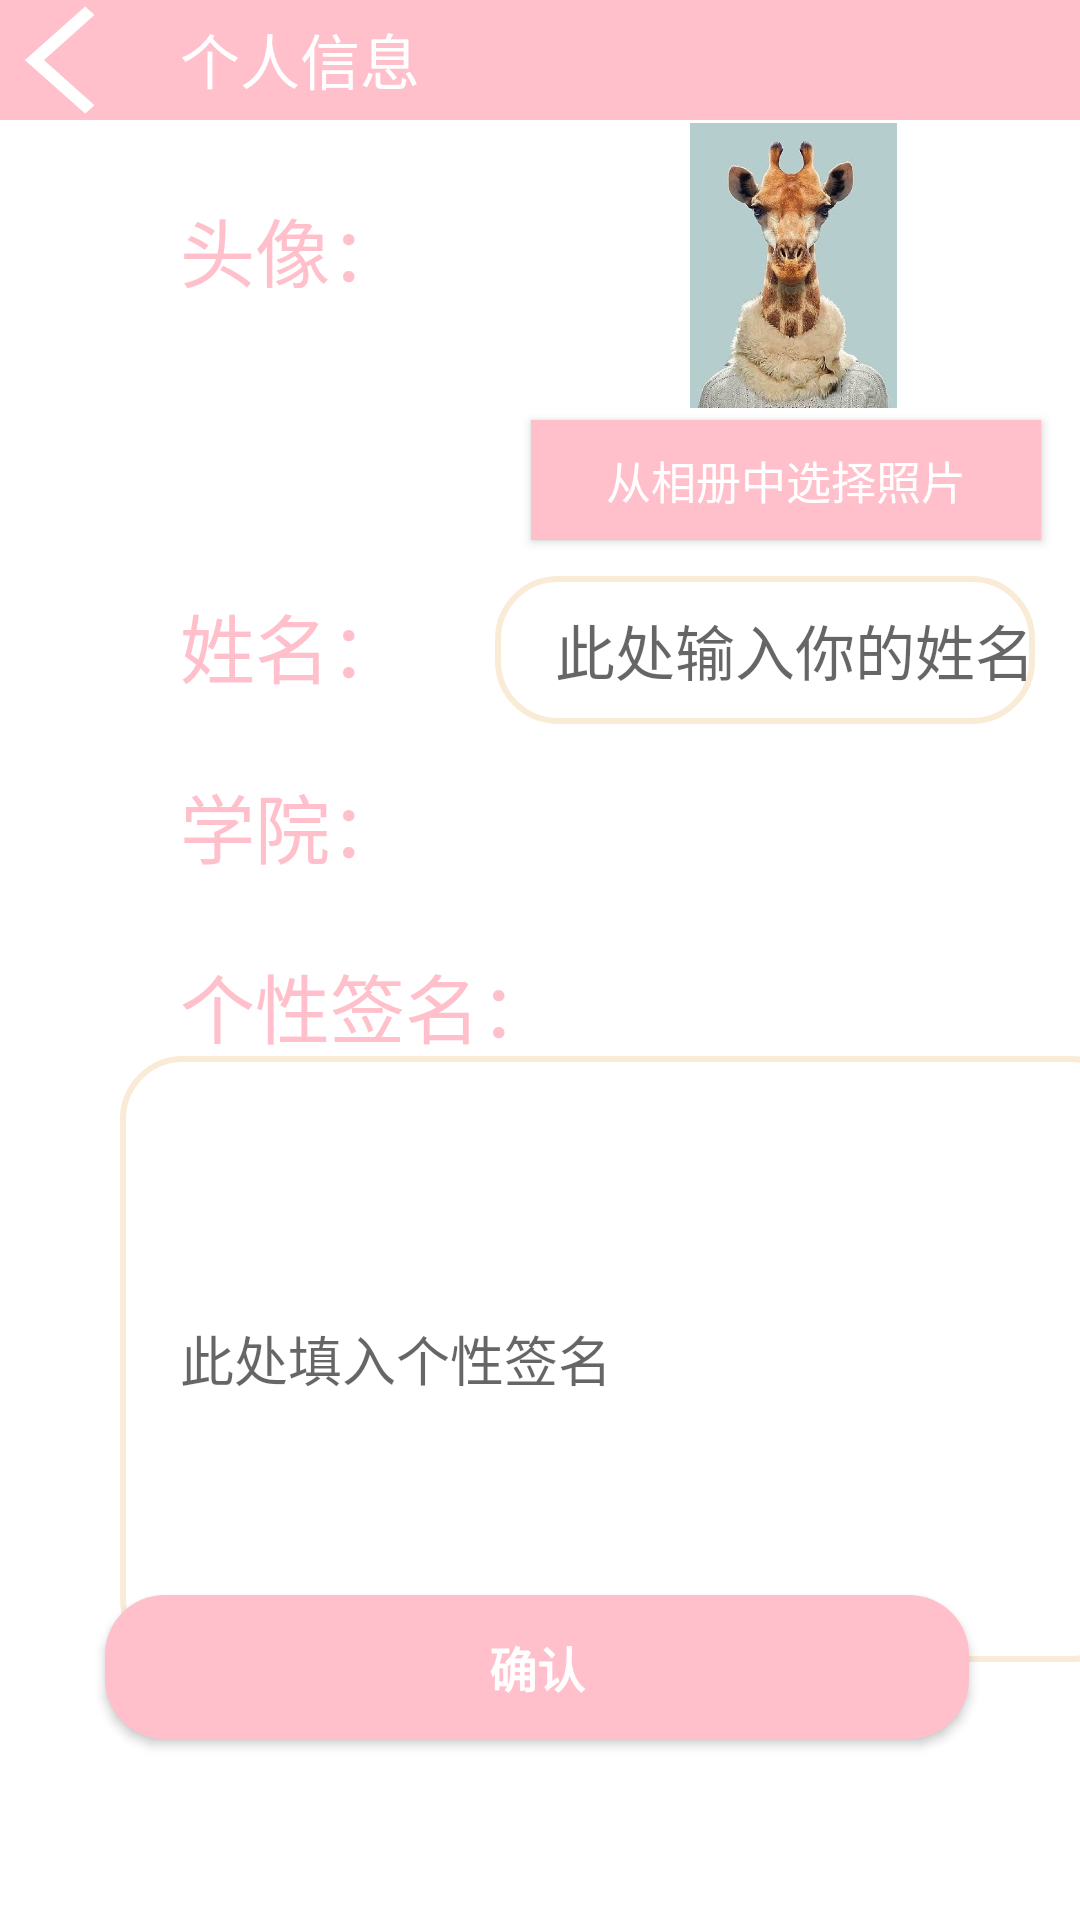

Icons on this 1080w x 1920h Android screen, each with its box as (x1, y1, x2, y2):
arrow return: (25, 7, 94, 113)
